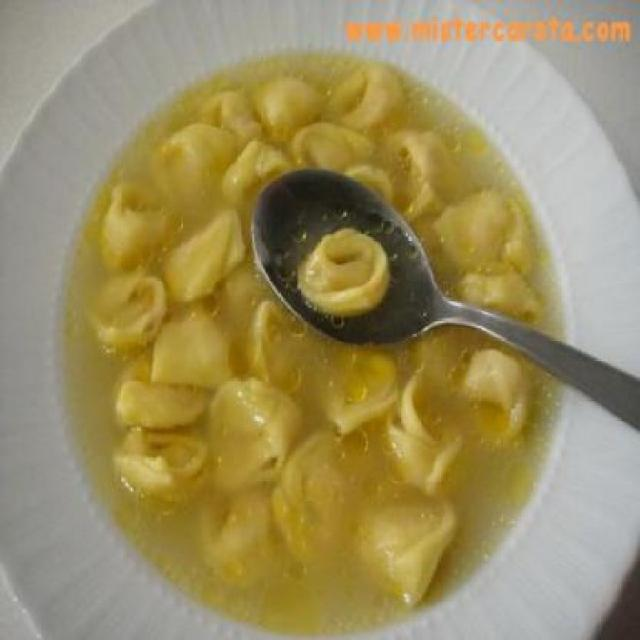Tortellini in broth: (54, 58, 522, 591)
